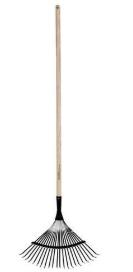RATEAU: (4, 1, 131, 272)
